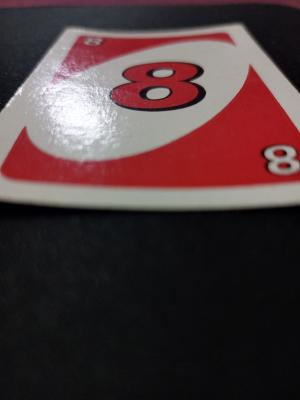num_8: (253, 139, 300, 180), (80, 29, 105, 52)
